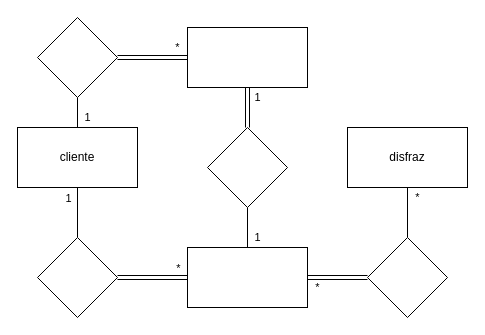
Some shapes in this 485 by 335 pixel diagram are drawn without their labels. Here are the shapes that lost their labels. From the top down, the centre of each, then its label:
At (x=247, y=57): "Alquiler".
At (x=247, y=277): "reserva".
